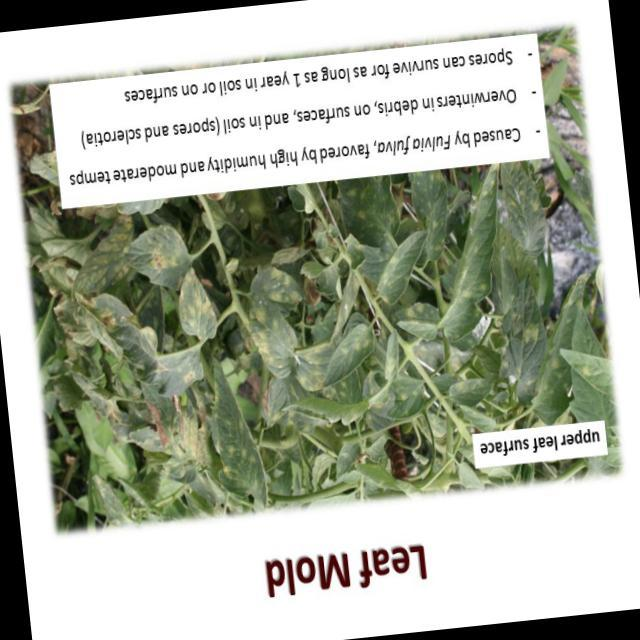Tomato mold leaf: (430, 165, 519, 341), (80, 283, 205, 400), (517, 273, 608, 427), (208, 349, 276, 508), (499, 268, 552, 390), (65, 219, 142, 296), (118, 219, 194, 296), (368, 224, 436, 306), (246, 294, 302, 382), (316, 322, 380, 389), (411, 171, 456, 263), (174, 264, 218, 344), (378, 373, 428, 423), (444, 376, 496, 408), (393, 314, 443, 346), (378, 328, 402, 383)
